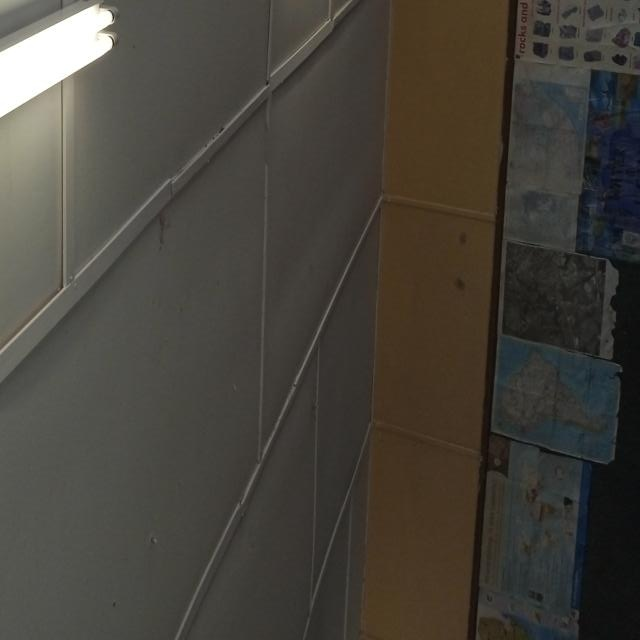fluorescent tube: (0, 0, 131, 431)
